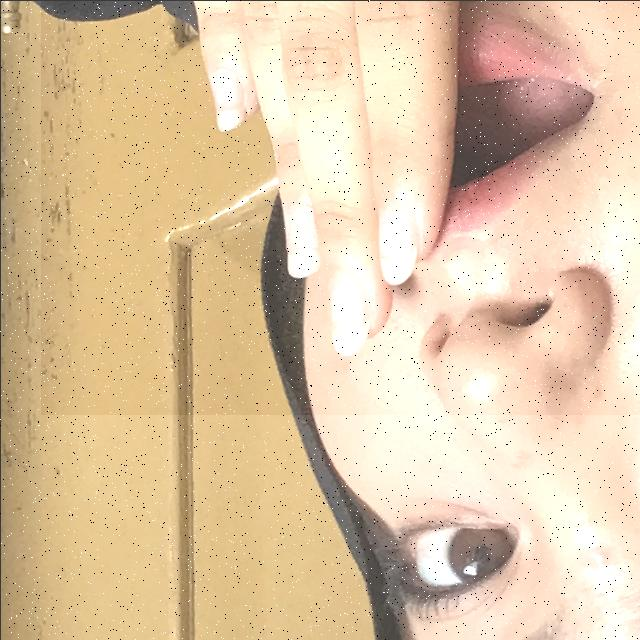ngantuk: (40, 0, 640, 414)
